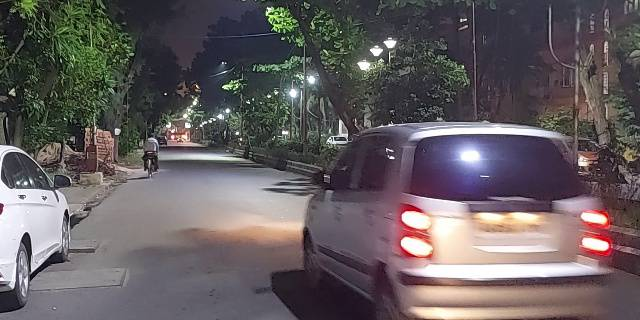Car: (300, 121, 607, 318)
Cycle: (139, 131, 161, 182)
